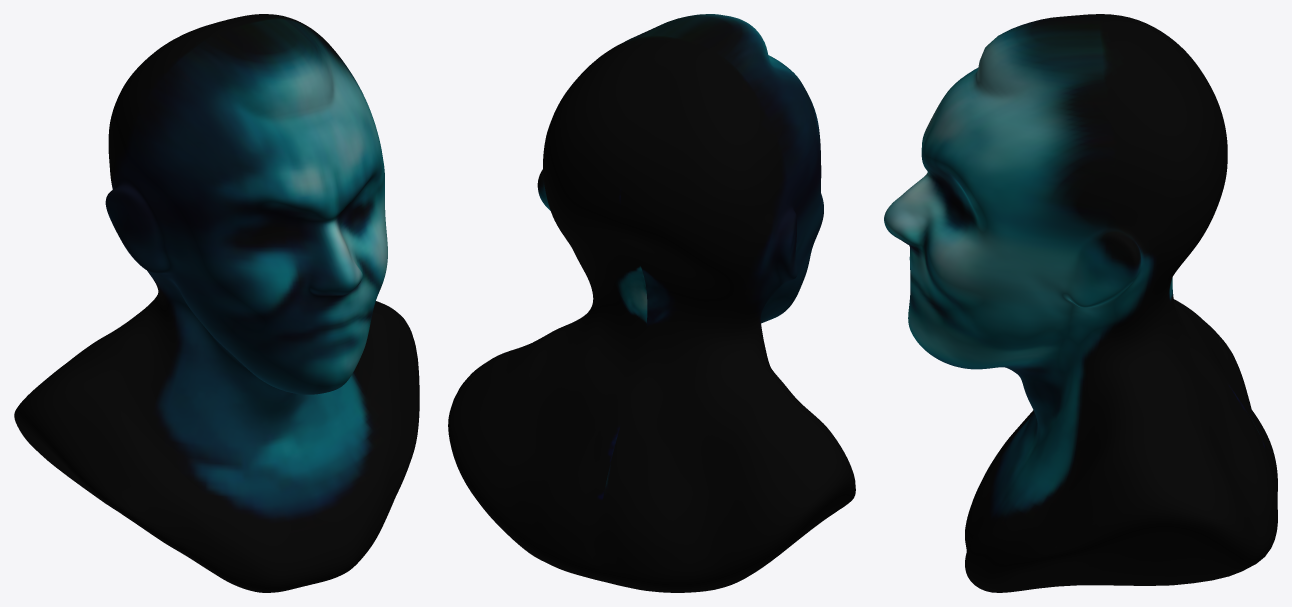
Rendered from busts.glb.
3 views of the same model, side by side, from view 1: azimuth 30°, elevation 25°; view 2: azimuth 150°, elevation 25°; view 3: azimuth 270°, elevation 25° (orthographic). The views are drawn at different scales.
Visible parts, largest first — view 1: head1; view 2: head1; view 3: head1.
Boxes of the visible parts, x1,y1,x2,y2 form: head1: (14, 14, 419, 592); head1: (448, 14, 855, 592); head1: (884, 14, 1277, 592).
Size of the model in its own units: 3.76 by 5 by 3.26.
Materials: 1 (1 with a texture image).
